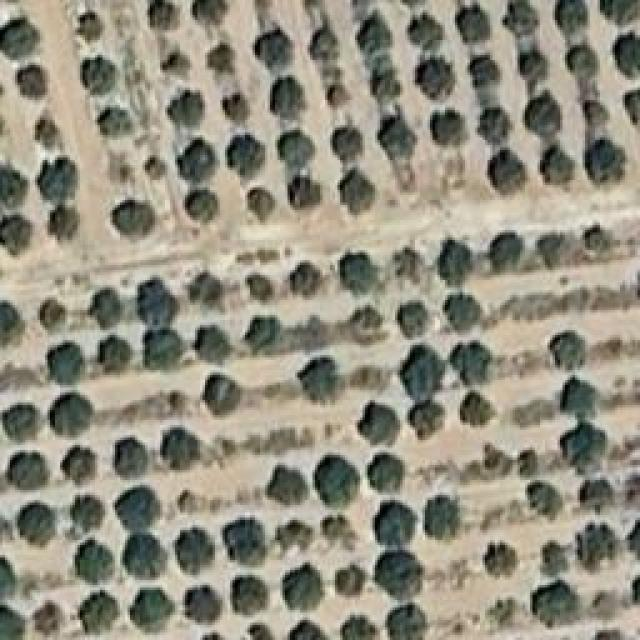Tree: (558, 428, 617, 477), (118, 525, 172, 577), (530, 578, 585, 629), (35, 148, 87, 201), (128, 590, 181, 640), (538, 145, 593, 193), (297, 357, 354, 403), (520, 90, 568, 144), (225, 518, 275, 566), (325, 250, 377, 296), (582, 523, 629, 573), (423, 488, 465, 543), (285, 563, 330, 614), (0, 15, 42, 69), (110, 482, 158, 529), (75, 543, 122, 590), (314, 453, 358, 503), (178, 528, 220, 580), (173, 132, 220, 178), (28, 115, 77, 159), (527, 477, 573, 523), (400, 348, 445, 395), (160, 425, 205, 472), (15, 500, 59, 548), (88, 103, 140, 143), (557, 375, 603, 420), (72, 5, 116, 52), (90, 331, 138, 374), (112, 198, 156, 244), (358, 400, 402, 446), (253, 28, 300, 71), (378, 100, 421, 147), (455, 0, 498, 47), (75, 50, 123, 92), (553, 334, 591, 386), (382, 553, 429, 595), (243, 310, 285, 357), (585, 143, 630, 186), (451, 342, 494, 387), (135, 280, 183, 320), (215, 83, 259, 126), (232, 573, 277, 615), (475, 436, 520, 478), (193, 322, 234, 368), (393, 243, 427, 298), (200, 375, 249, 413), (17, 55, 62, 96), (358, 55, 406, 93), (8, 453, 52, 494), (385, 600, 430, 640), (350, 302, 388, 349), (143, 325, 184, 368), (338, 173, 382, 213), (273, 462, 312, 507), (0, 400, 45, 438), (412, 403, 457, 441), (148, 0, 198, 34), (533, 233, 574, 274), (426, 110, 468, 150), (487, 233, 521, 282), (50, 205, 95, 242), (45, 395, 91, 431), (370, 498, 411, 538), (178, 185, 221, 223), (278, 133, 321, 171), (85, 598, 128, 636), (565, 37, 602, 81), (0, 215, 36, 260), (282, 258, 328, 293), (448, 293, 487, 334), (228, 130, 262, 177), (27, 598, 72, 633), (328, 125, 370, 162), (373, 458, 409, 501), (578, 473, 614, 516), (185, 585, 221, 627), (553, 0, 596, 35), (398, 300, 428, 349), (305, 23, 342, 62), (63, 448, 102, 485), (485, 535, 524, 572), (587, 95, 619, 140), (435, 238, 469, 280), (193, 0, 232, 36), (268, 73, 304, 112), (105, 433, 144, 468), (503, 3, 537, 43), (0, 165, 30, 210), (288, 170, 329, 202), (200, 35, 236, 71), (518, 48, 552, 86), (514, 442, 544, 485), (70, 500, 106, 535), (475, 105, 507, 144), (358, 10, 393, 45), (163, 85, 199, 119), (140, 153, 175, 187), (415, 13, 449, 48), (0, 300, 22, 354), (610, 35, 639, 75), (472, 55, 505, 90), (460, 390, 493, 425), (0, 605, 32, 640), (188, 275, 223, 307), (242, 185, 274, 219), (338, 555, 366, 593), (490, 150, 521, 184), (283, 523, 314, 557), (45, 344, 80, 374), (543, 538, 571, 575), (328, 78, 362, 108), (40, 295, 70, 329), (245, 268, 279, 298), (0, 558, 19, 610), (323, 510, 359, 537), (160, 52, 190, 84), (424, 67, 454, 99), (600, 0, 638, 25), (90, 290, 117, 324), (285, 617, 324, 639), (585, 223, 613, 252), (342, 615, 370, 640), (625, 83, 640, 123), (173, 485, 197, 510), (163, 382, 189, 403)
